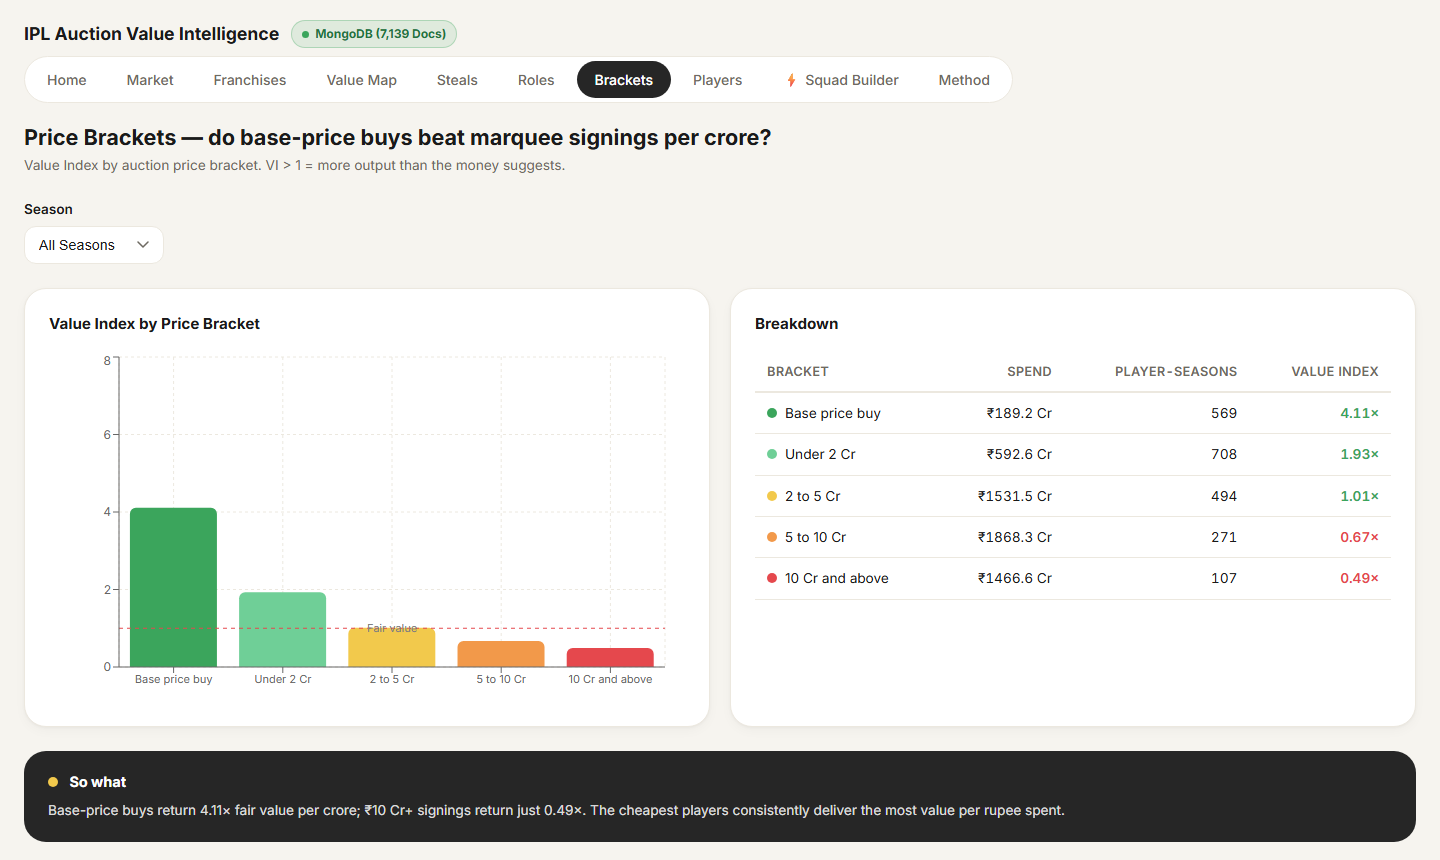

This screenshot's page, from the dashboard's own definition file:
{"tool":"powerbi","page":{"name":"6 Price Brackets","canvas":[1280,720],"ordinal":6},"visuals":[{"type":"textbox","box":[16,8,270,66],"z":1000},{"type":"textbox","box":[300,14,748,44],"z":2000},{"type":"actionButton","title":"Home","box":[306,20,88,32],"z":3000},{"type":"actionButton","title":"Market","box":[398,20,88,32],"z":4000},{"type":"actionButton","title":"Franchises","box":[490,20,88,32],"z":5000},{"type":"actionButton","title":"Value Map","box":[582,20,88,32],"z":6000},{"type":"actionButton","title":"Steals","box":[674,20,88,32],"z":7000},{"type":"actionButton","title":"Roles","box":[766,20,88,32],"z":8000},{"type":"actionButton","title":"Brackets","box":[858,20,88,32],"z":9000},{"type":"actionButton","title":"Method","box":[950,20,88,32],"z":10000},{"type":"actionButton","title":"i","box":[1062,14,44,44],"z":11000},{"type":"textbox","box":[16,74,1248,50],"z":12000},{"type":"card","fields":{"Values":["_Measures.Base Price Value Index"]},"box":[16,126,241.6,62],"z":13000},{"type":"card","fields":{"Values":["_Measures.Marquee Value Index"]},"box":[265.6,126,241.6,62],"z":14000},{"type":"card","fields":{"Values":["_Measures.Base Price Above Median %"]},"box":[515.2,126,241.6,62],"z":15000},{"type":"card","fields":{"Values":["_Measures.Marquee Above Median %"]},"box":[764.8,126,241.6,62],"z":16000},{"type":"card","fields":{"Values":["_Measures.Base Price Buys"]},"box":[1014.4,126,241.6,62],"z":17000},{"type":"textbox","box":[16,192,196,84],"z":18000},{"type":"slicer","fields":{"Values":["DimSeason.Season"]},"box":[24,202,180,64],"z":19000},{"type":"textbox","box":[16,286,196,418],"z":20000},{"type":"clusteredColumnChart","title":"Value Index by price bracket · 1.00 = fair value","fields":{"Category":["FactPlayerSeason.PriceBracket"],"Y":["_Measures.Value Index"]},"box":[224,192,515,262],"z":21000},{"type":"hundredPercentStackedBarChart","title":"Value quadrant mix within each bracket (% of player-seasons)","fields":{"Category":["FactPlayerSeason.PriceBracket"],"Series":["FactPlayerSeason.Value Quadrant"],"Y":["_Measures.Player Seasons"]},"box":[749,192,515,262],"z":22000},{"type":"tableEx","title":"Bracket scorecard","fields":{"Values":["FactPlayerSeason.PriceBracket","_Measures.Player Seasons","_Measures.Spend Cr","_Measures.Priced Impact","_Measures.Impact per Match","_Measures.Lakh per Point","_Measures.Above Median Impact %","_Measures.Value Index"]},"box":[224,464,1040,240],"z":23000}]}

Visuals, with their boxes on the page's 1280x720 design canvas (x1, y1, x2, y2). These are canvas units, not pixel positions in the 1440x860 screenshot, which may show the page scaled, cropped or inside an application window:
textbox: [16, 8, 286, 74]
textbox: [300, 14, 1048, 58]
"Home" actionButton: [306, 20, 394, 52]
"Market" actionButton: [398, 20, 486, 52]
"Franchises" actionButton: [490, 20, 578, 52]
"Value Map" actionButton: [582, 20, 670, 52]
"Steals" actionButton: [674, 20, 762, 52]
"Roles" actionButton: [766, 20, 854, 52]
"Brackets" actionButton: [858, 20, 946, 52]
"Method" actionButton: [950, 20, 1038, 52]
"i" actionButton: [1062, 14, 1106, 58]
textbox: [16, 74, 1264, 124]
card - _Measures.Base Price Value Index: [16, 126, 258, 188]
card - _Measures.Marquee Value Index: [266, 126, 507, 188]
card - _Measures.Base Price Above Median %: [515, 126, 757, 188]
card - _Measures.Marquee Above Median %: [765, 126, 1006, 188]
card - _Measures.Base Price Buys: [1014, 126, 1256, 188]
textbox: [16, 192, 212, 276]
slicer - DimSeason.Season: [24, 202, 204, 266]
textbox: [16, 286, 212, 704]
"Value Index by price bracket · 1.00 = fair value" clusteredColumnChart: [224, 192, 739, 454]
"Value quadrant mix within each bracket (% of player-seasons)" hundredPercentStackedBarChart: [749, 192, 1264, 454]
"Bracket scorecard" tableEx: [224, 464, 1264, 704]
